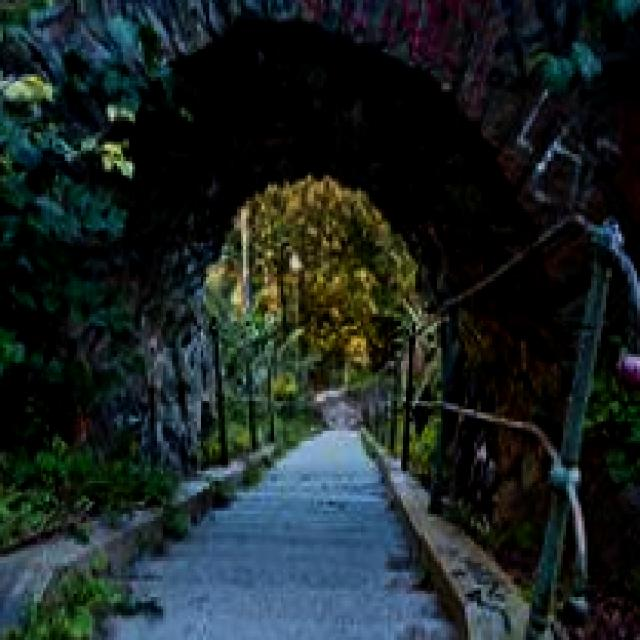downstair: (75, 499, 466, 640)
